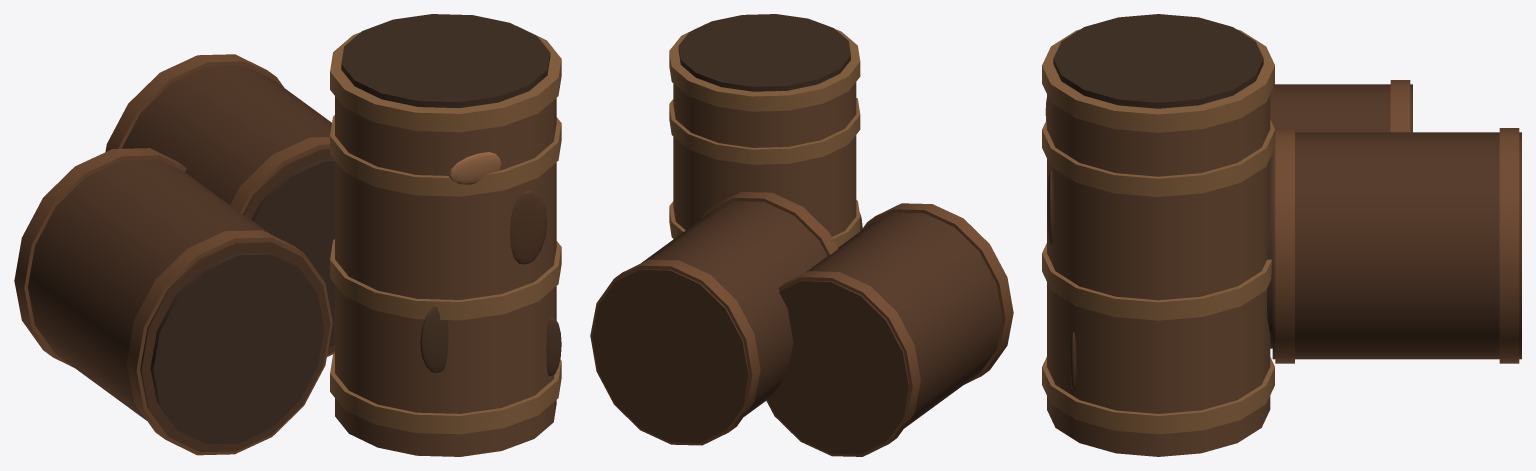
The model's file is CMU3DDecorBarrels.glb.
3 renders of one model, left to right at view 1: azimuth 30°, elevation 25°; view 2: azimuth 150°, elevation 25°; view 3: azimuth 270°, elevation 25°, orthographic. The views are drawn at different scales.
Visible parts, largest first — view 1: upright rusty drum, fallen rusty drum (×2), fallen drum end (×2), rusty drum hoop (×4), dark rusted lid, fallen drum rim (×4), irregular corrosion (×4); view 2: fallen rusty drum (×2), upright rusty drum, fallen drum rim (×4), dark rusted lid, rusty drum hoop (×3); view 3: upright rusty drum, fallen rusty drum (×2), rusty drum hoop (×4), dark rusted lid, fallen drum rim (×3), fallen drum end, irregular corrosion.
Part boxes in pixels (bbox=[...]): upright rusty drum: bbox=[335, 96, 556, 456]; fallen rusty drum (×2): bbox=[28, 65, 334, 452]; fallen drum end (×2): bbox=[150, 159, 334, 444]; rusty drum hoop (×4): bbox=[330, 26, 561, 434]; dark rusted lid: bbox=[341, 14, 550, 108]; fallen drum rim (×4): bbox=[14, 54, 334, 455]; irregular corrosion (×4): bbox=[420, 152, 561, 376]; fallen rusty drum (×2): bbox=[592, 201, 1002, 454]; upright rusty drum: bbox=[673, 82, 856, 239]; fallen drum rim (×4): bbox=[590, 192, 1013, 456]; dark rusted lid: bbox=[678, 14, 850, 91]; rusty drum hoop (×3): bbox=[669, 23, 860, 247]; upright rusty drum: bbox=[1047, 94, 1270, 456]; fallen rusty drum (×2): bbox=[1270, 84, 1521, 359]; rusty drum hoop (×4): bbox=[1042, 29, 1274, 434]; dark rusted lid: bbox=[1053, 14, 1263, 108]; fallen drum rim (×3): bbox=[1275, 80, 1519, 363]; fallen drum end: bbox=[1267, 153, 1272, 348]; irregular corrosion: bbox=[1047, 170, 1054, 245].
Bounding box in the file's own units: 0.8591 × 0.711 × 0.88.
